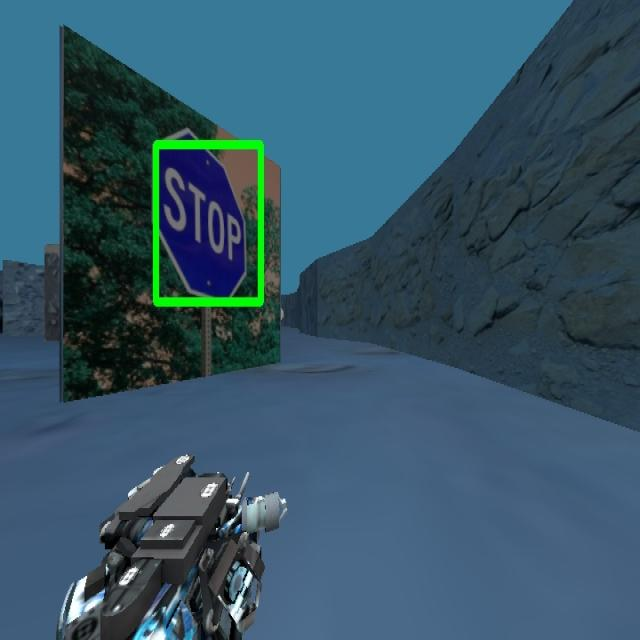Diamon: (151, 136, 265, 308)
